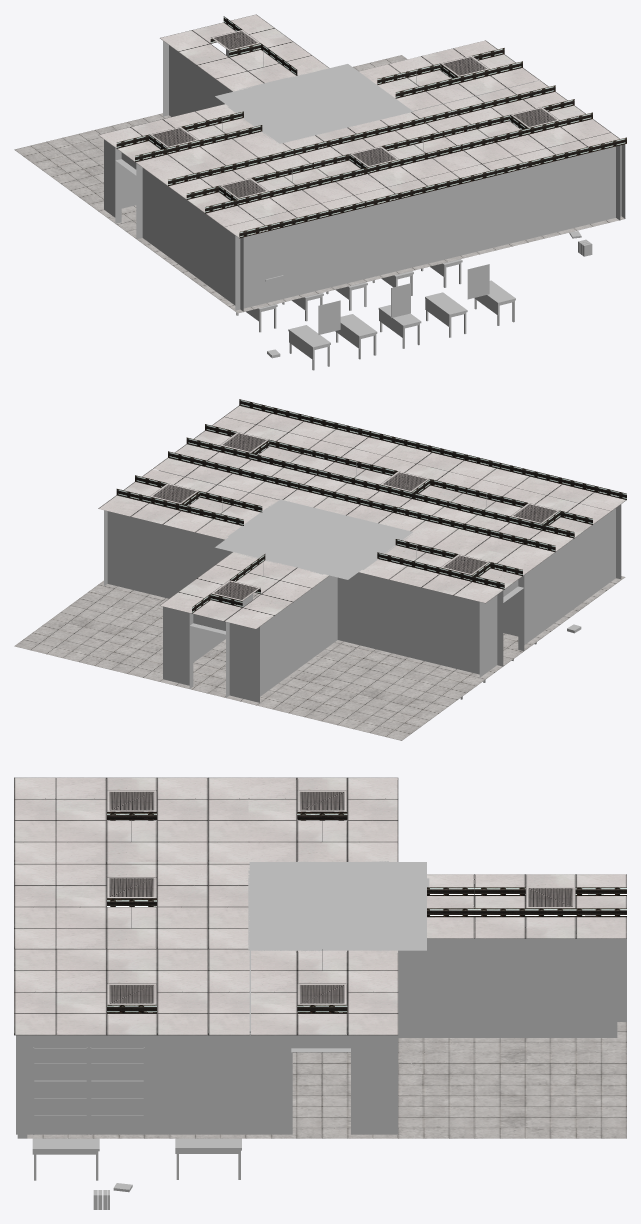
The model's file is room3offices_opt9.fbx.
3 renders of one model, top to bottom at view 1: azimuth 30°, elevation 25°; view 2: azimuth 150°, elevation 25°; view 3: azimuth 270°, elevation 25°, orthographic. The views are drawn at different scales.
Parts seen in each view (by area): view 1: Scene_Root; view 2: Scene_Root; view 3: Scene_Root.
Boxes of the visible parts, x1,y1,x2,y2 form: Scene_Root: (14,14,626,370); Scene_Root: (14,399,626,740); Scene_Root: (14,777,626,1209).
Bounding box in the file's own units: 1485 × 637 × 1493.
